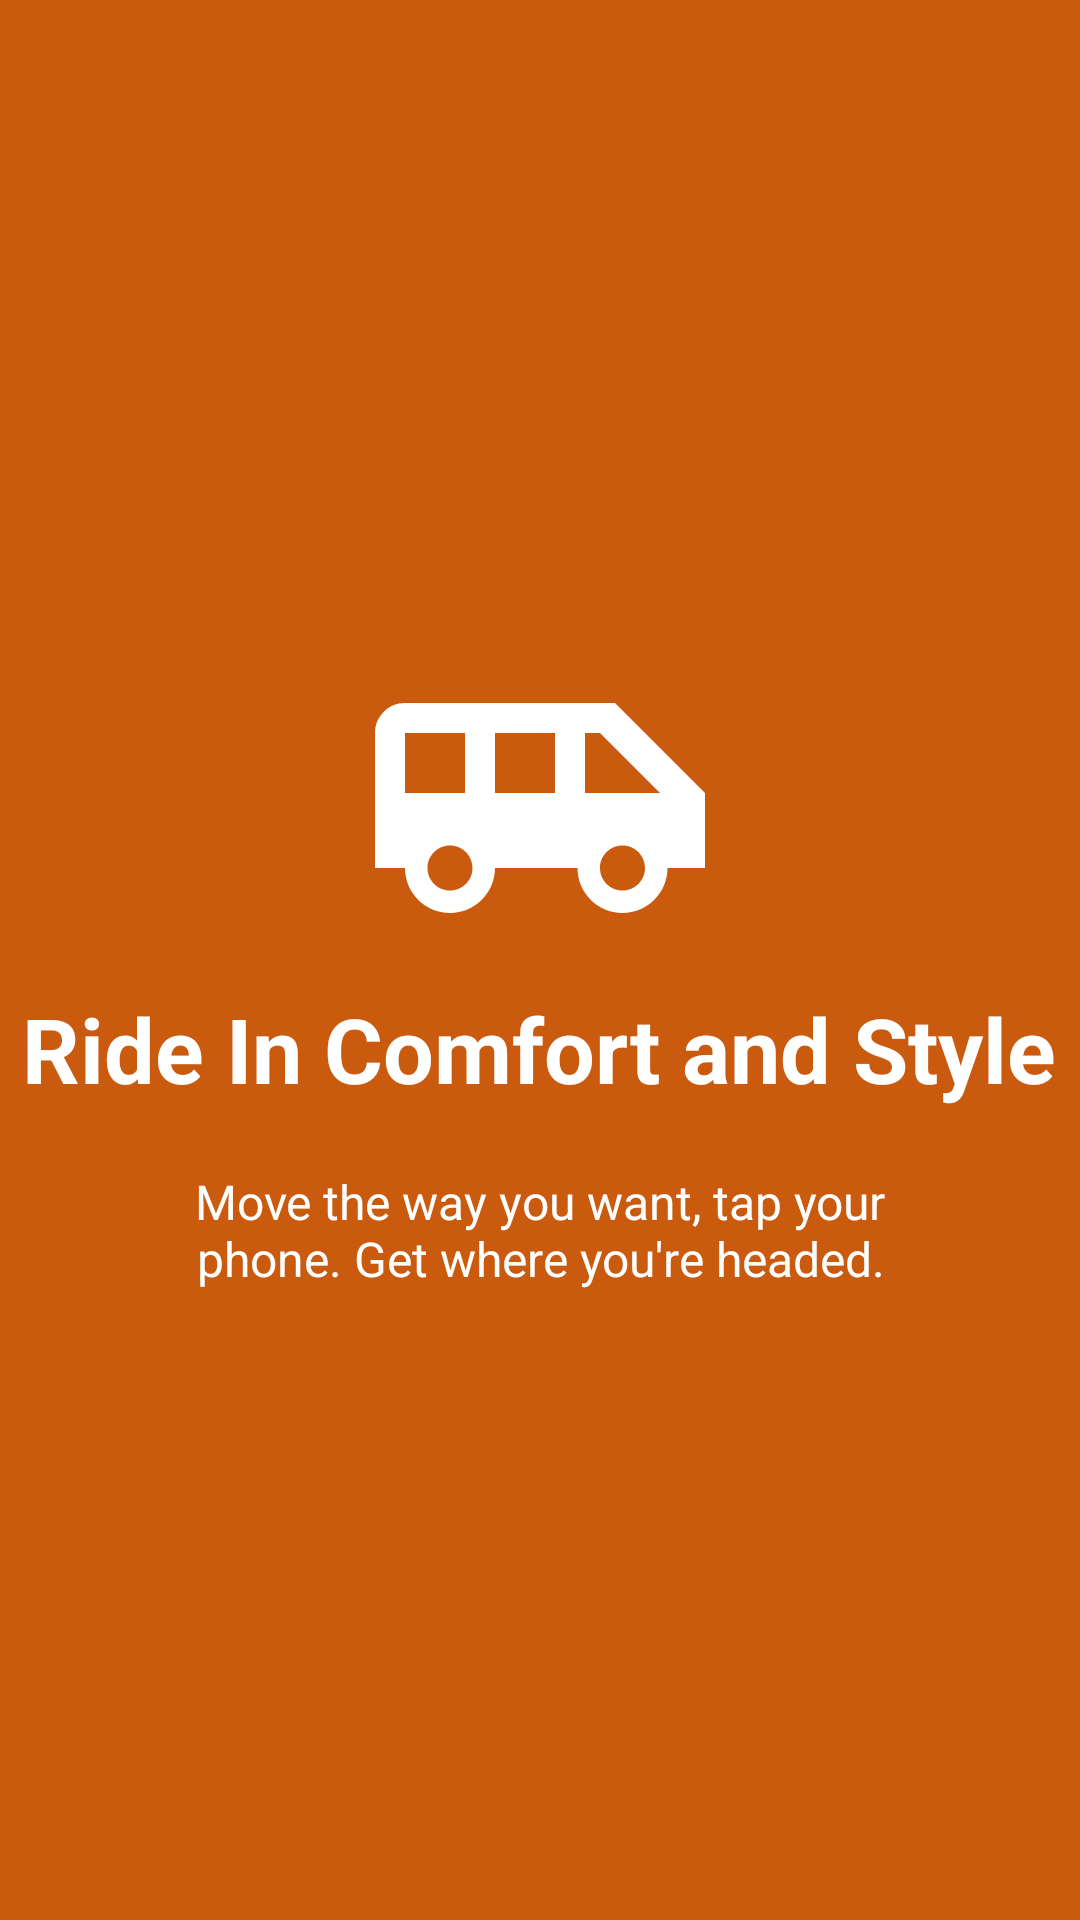

Point at icon controls on the screen. Image size 1080x1920, points as (x,y).
airport shuttle: (540,808)
